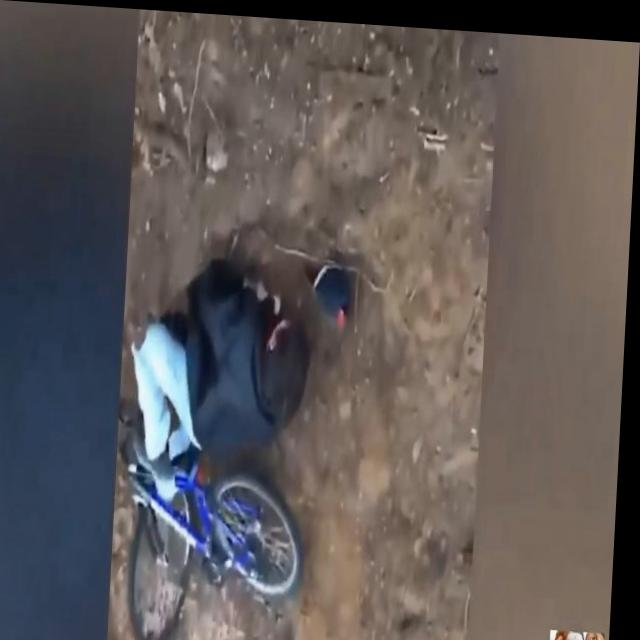fall: (130, 263, 320, 511)
